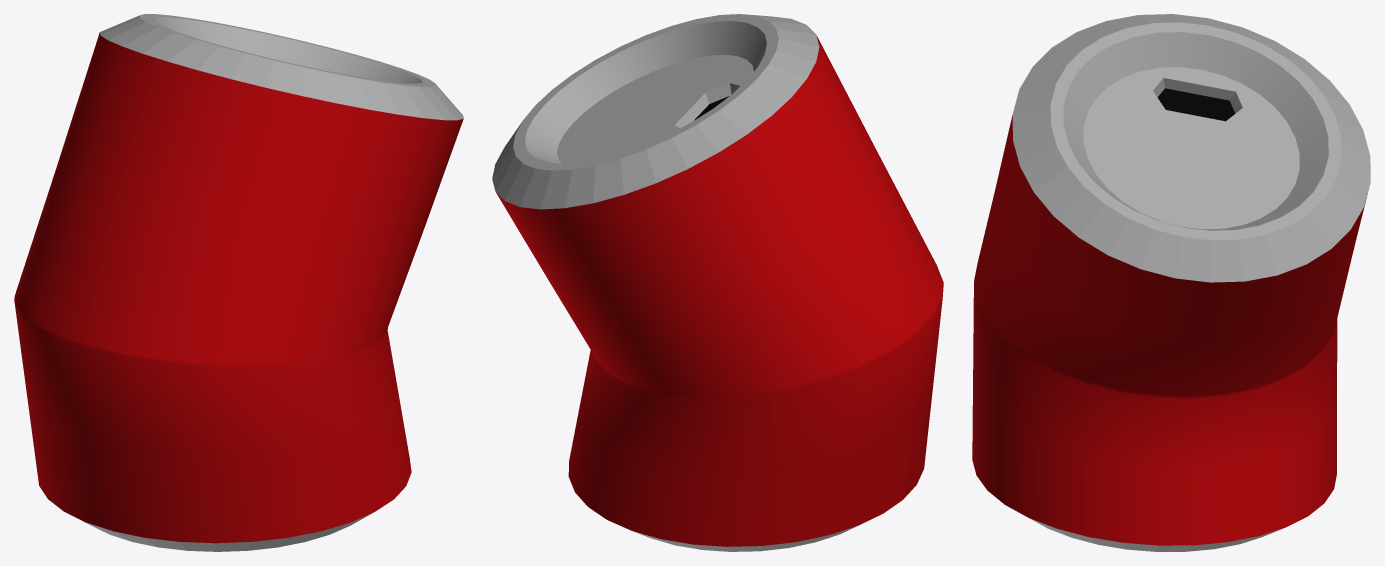
Rendered from lata(1).fbx.
The picture shows the model from 3 angles, left to right: view 1: azimuth 30°, elevation 25°; view 2: azimuth 150°, elevation 25°; view 3: azimuth 270°, elevation 25°; orthographic projection. The views are drawn at different scales.
Visible parts, largest first — view 1: Lata; view 2: Lata; view 3: Lata.
Part boxes in pixels (left/top/right/bottom): Lata: left=14, top=14, right=463, bottom=551; Lata: left=492, top=14, right=943, bottom=551; Lata: left=972, top=14, right=1370, bottom=551.
Bounding box in the file's own units: 72.64 × 79.05 × 62.52.
1 material, 1 textured.
